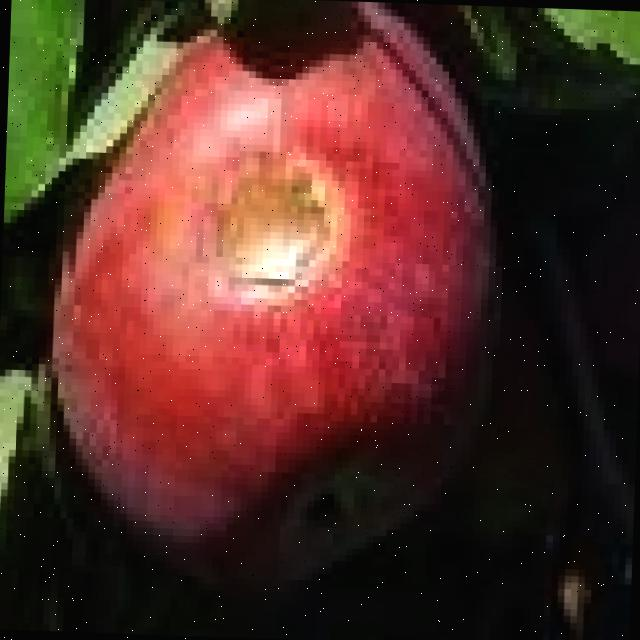rotten apple: (9, 0, 562, 615)
